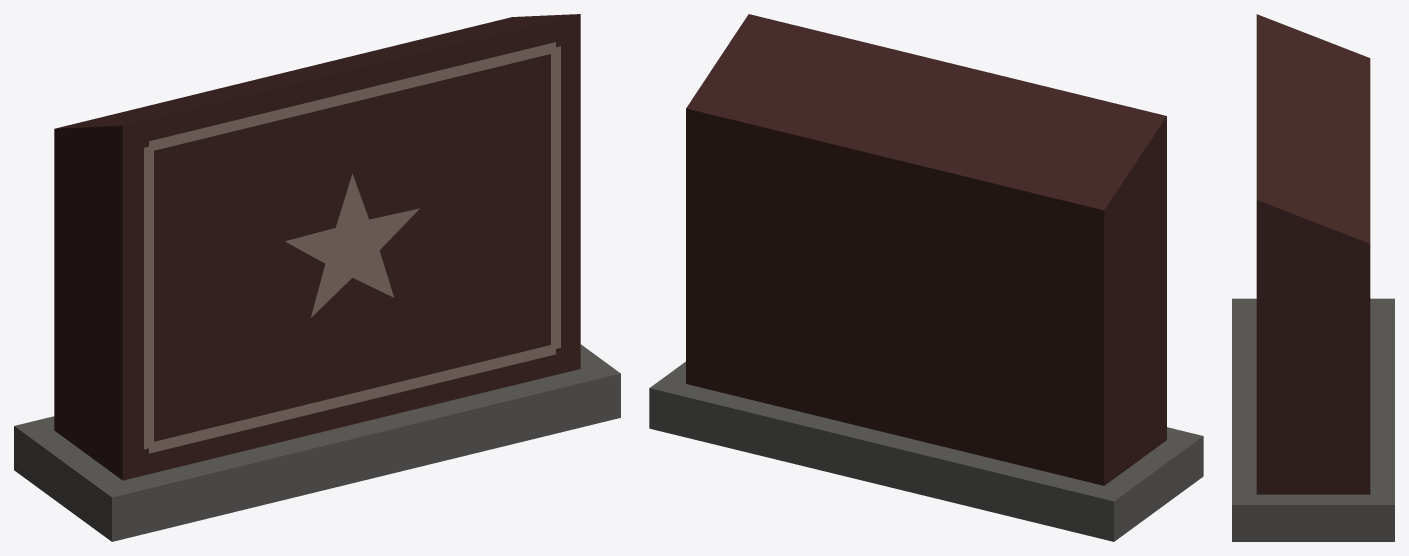
Rendered from monument.marker.red.glb.
3 views of the same model, side by side, from view 1: azimuth 30°, elevation 25°; view 2: azimuth 150°, elevation 25°; view 3: azimuth 270°, elevation 25° (orthographic). The views are drawn at different scales.
Visible parts, largest first — view 1: monument_marker_red; view 2: monument_marker_red; view 3: monument_marker_red.
Part boxes in pixels (x1=…): monument_marker_red: x1=14, y1=14, x2=620, y2=541; monument_marker_red: x1=649, y1=14, x2=1203, y2=541; monument_marker_red: x1=1232, y1=14, x2=1394, y2=541.
Size of what is drawn, in the model's own units: 1.2 by 0.9 by 0.4.
